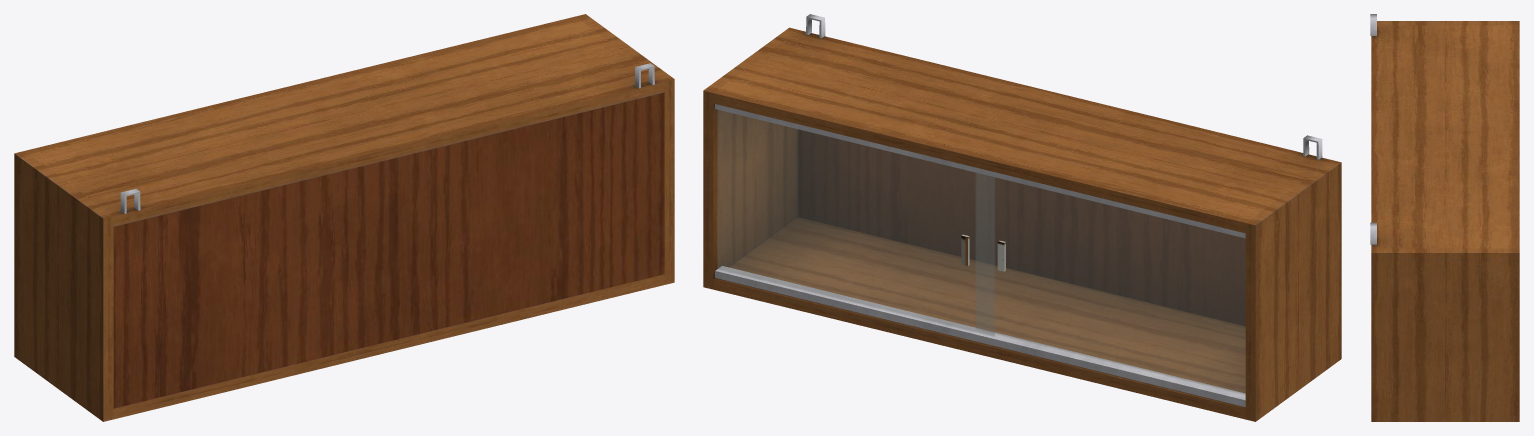
The model's file is shelf_glass_light_web.glb.
3 renders of one model, left to right at view 1: azimuth 30°, elevation 25°; view 2: azimuth 150°, elevation 25°; view 3: azimuth 270°, elevation 25°, orthographic. The views are drawn at different scales.
Parts seen in each view (by area): view 1: ShelfGlassLight_Body, Chrome_ShelfGlassLight; view 2: ShelfGlassLight_Body, Glass_Slide_1_L, Glass_Slide_1_R, Chrome_ShelfGlassLight; view 3: ShelfGlassLight_Body, Chrome_ShelfGlassLight.
Boxes of the visible parts, <box> form: ShelfGlassLight_Body: <box>14,14,674,421</box>; Chrome_ShelfGlassLight: <box>120,63,654,213</box>; ShelfGlassLight_Body: <box>703,27,1341,421</box>; Glass_Slide_1_L: <box>717,110,994,336</box>; Glass_Slide_1_R: <box>976,173,1245,394</box>; Chrome_ShelfGlassLight: <box>715,14,1322,407</box>; ShelfGlassLight_Body: <box>1371,21,1519,421</box>; Chrome_ShelfGlassLight: <box>1370,14,1376,244</box>.
Bounding box in the file's own units: 1 × 0.3712 × 0.272.
3 materials, 2 textured.
